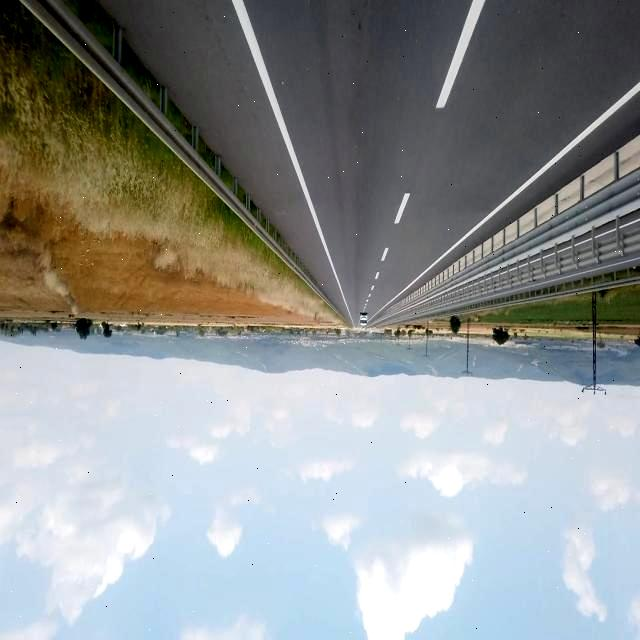lane: (380, 82, 640, 309), (231, 1, 349, 314), (436, 0, 486, 109), (396, 192, 410, 224)
road: (98, 1, 639, 325)
